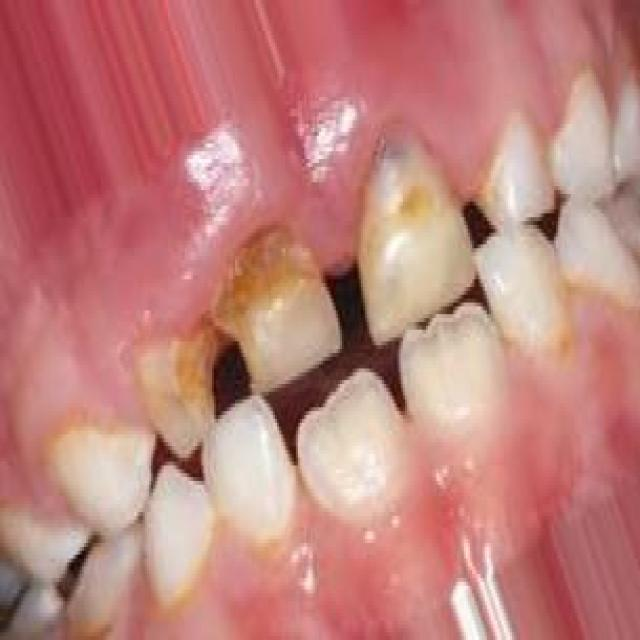caries: (210, 210, 324, 394), (359, 111, 457, 322), (121, 324, 224, 448)
